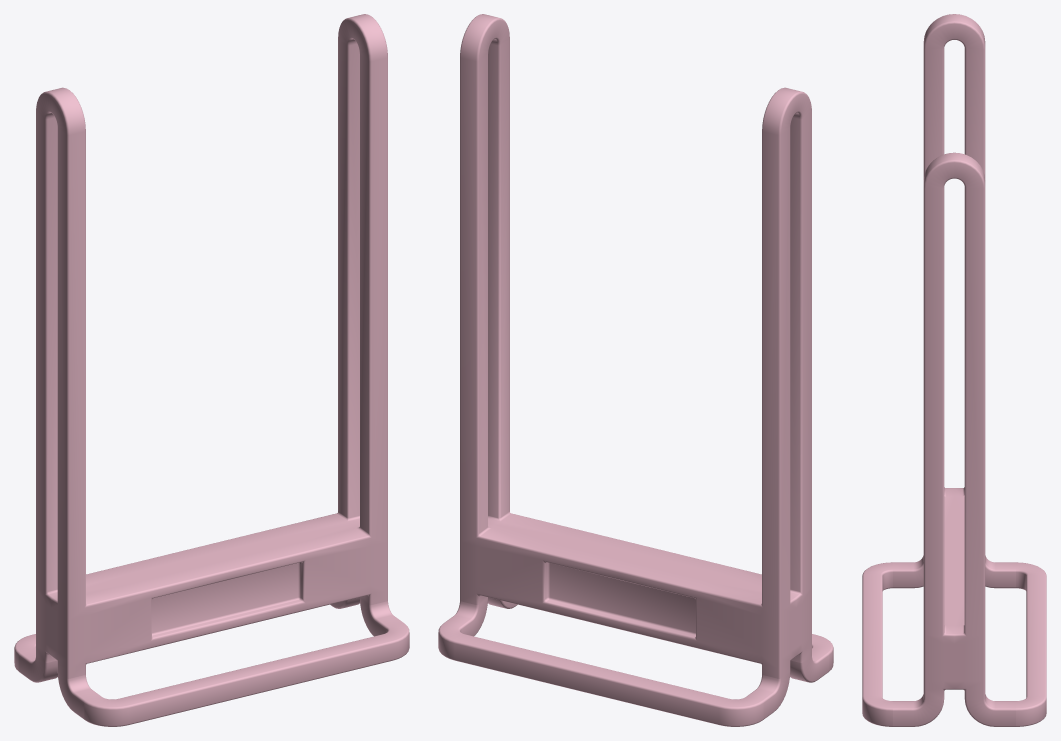
The model's file is bubble-pop.glb.
3 renders of one model, left to right at view 1: azimuth 30°, elevation 25°; view 2: azimuth 150°, elevation 25°; view 3: azimuth 270°, elevation 25°, orthographic. The views are drawn at different scales.
Visible parts, largest first — view 1: Cube; view 2: Cube; view 3: Cube.
Part boxes in pixels (x1,y1,x2,y2): Cube: (14,14,409,726); Cube: (438,14,833,726); Cube: (862,14,1046,726).
Bounding box in the file's own units: 1.7 × 3.05 × 0.9.
